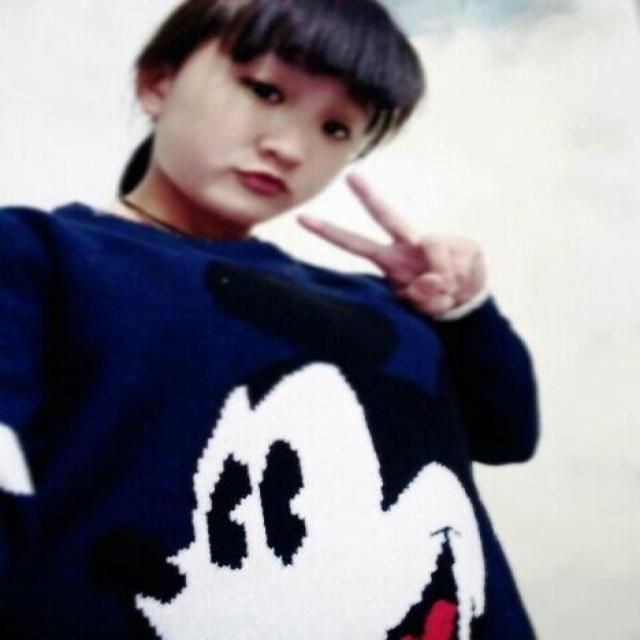long-sleeve-dress: (7, 190, 633, 640)
